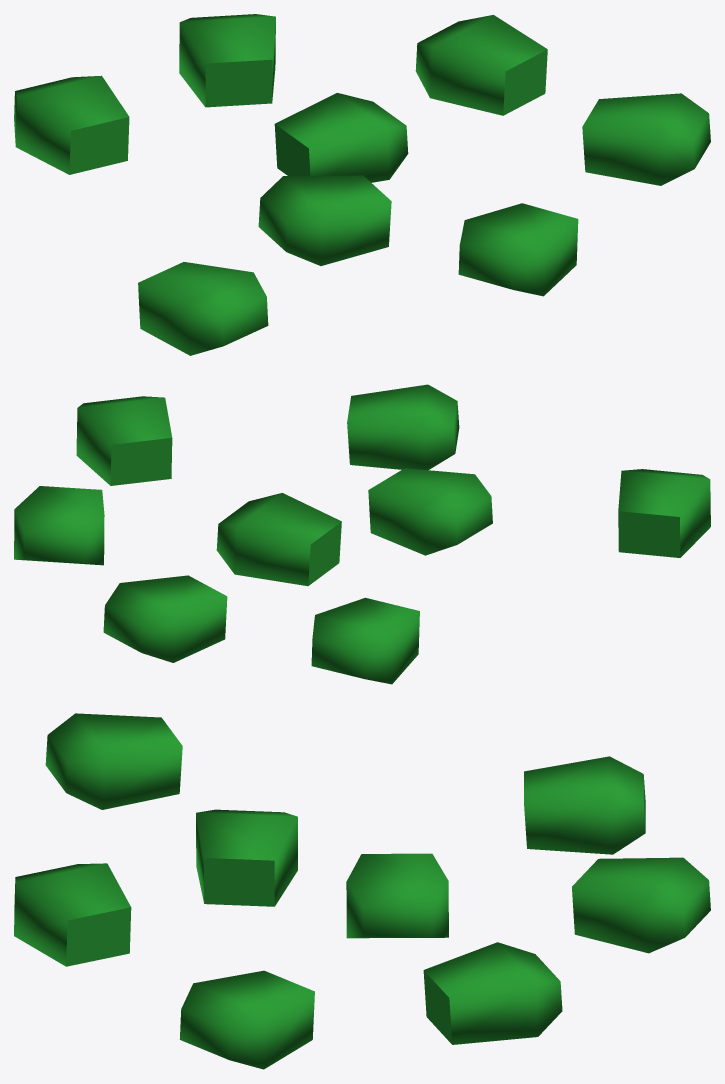
Rendered from SM_Corn_Seed.fbx.
3 views of the same model, one above another, from view 1: azimuth 30°, elevation 25°; view 2: azimuth 150°, elevation 25°; view 3: azimuth 270°, elevation 25° (orthographic). The views are drawn at different scales.
Parts seen in each view (by area): view 1: SM_Corn_Seed; view 2: SM_Corn_Seed; view 3: SM_Corn_Seed.
Part boxes in pixels (box(x1,y1,x2,y2)): SM_Corn_Seed: box(14, 14, 710, 355); SM_Corn_Seed: box(14, 384, 710, 684); SM_Corn_Seed: box(14, 713, 710, 1069).
Bounding box in the file's own units: 13.61 × 1.15 × 12.91.
